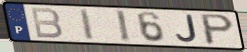6: (136, 11, 166, 44)
B: (29, 7, 65, 40)
I: (114, 9, 132, 44), (79, 8, 97, 42)
J: (174, 14, 199, 44)
P: (200, 13, 236, 46)
